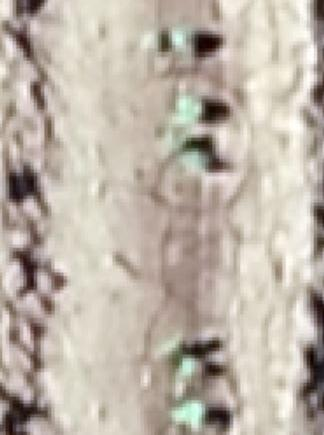cotton: (175, 401, 204, 429), (175, 95, 200, 120), (161, 338, 183, 362), (183, 152, 209, 172), (172, 26, 190, 47), (180, 356, 195, 379), (169, 130, 187, 145)
